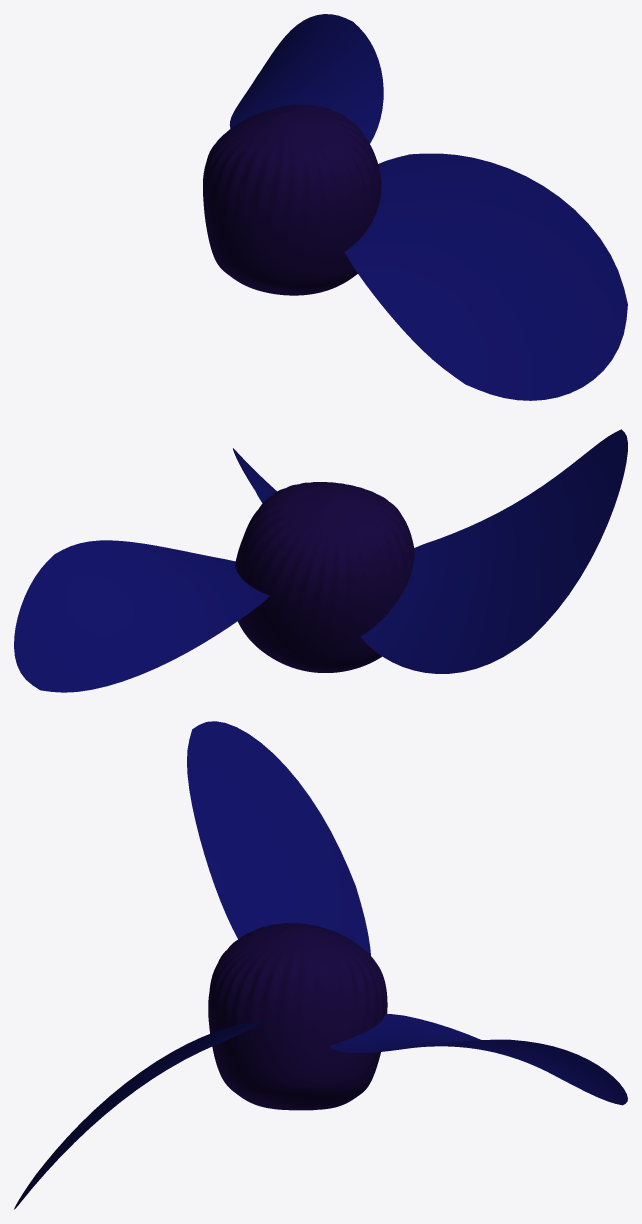
File: propeller.gltf
3 renders of one model, top to bottom at view 1: azimuth 30°, elevation 25°; view 2: azimuth 150°, elevation 25°; view 3: azimuth 270°, elevation 25°, orthographic.
Parts seen in each view (by area): view 1: Plane.002; view 2: Plane.002; view 3: Plane.002.
Boxes of the visible parts, x1,y1,x2,y2 form: Plane.002: (203, 14, 627, 400); Plane.002: (14, 429, 627, 692); Plane.002: (14, 721, 627, 1209).
Size of the model in its own units: 6.03 by 3.55 by 6.65.
